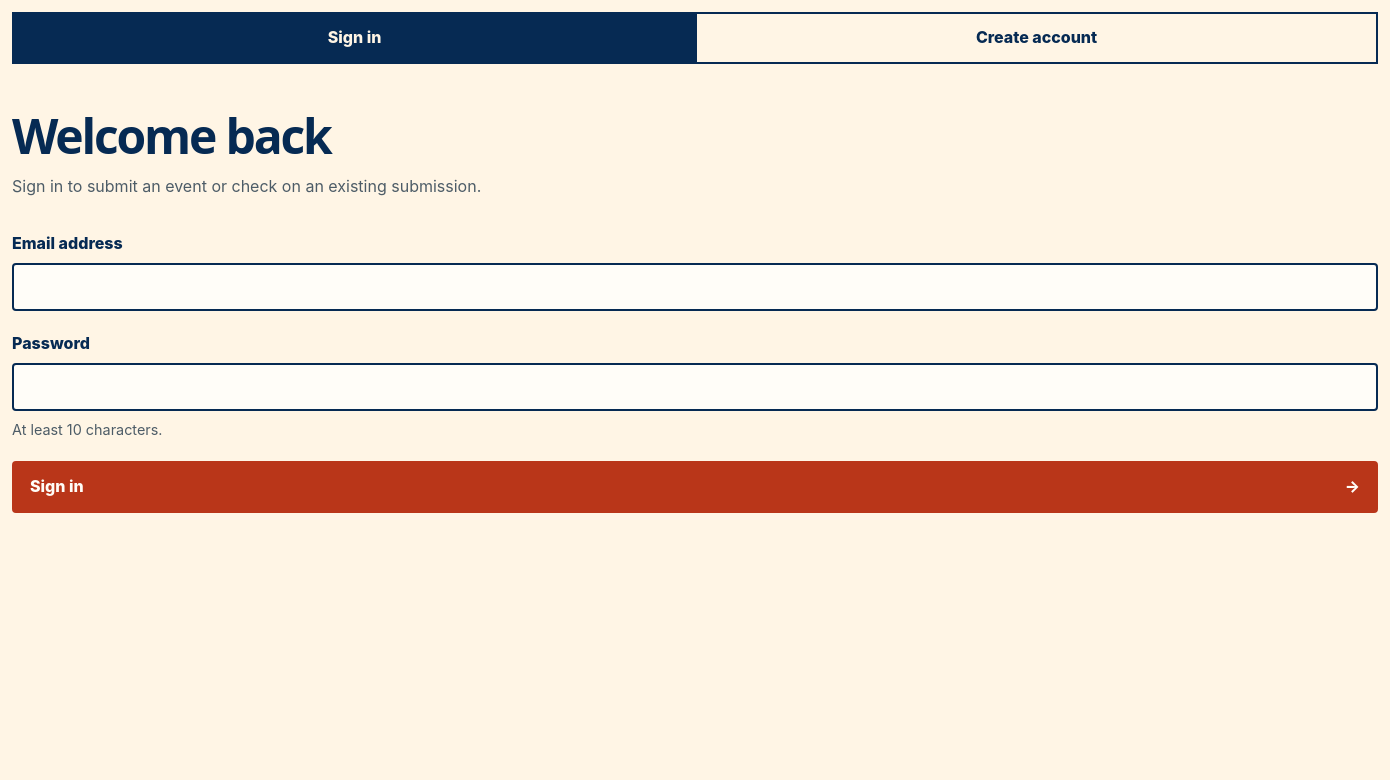
Test: AuthForm › maps duplicate-account errors and clears them when switching modes
Click the button "Create account" at (1036, 38), box [695, 14, 1376, 62]
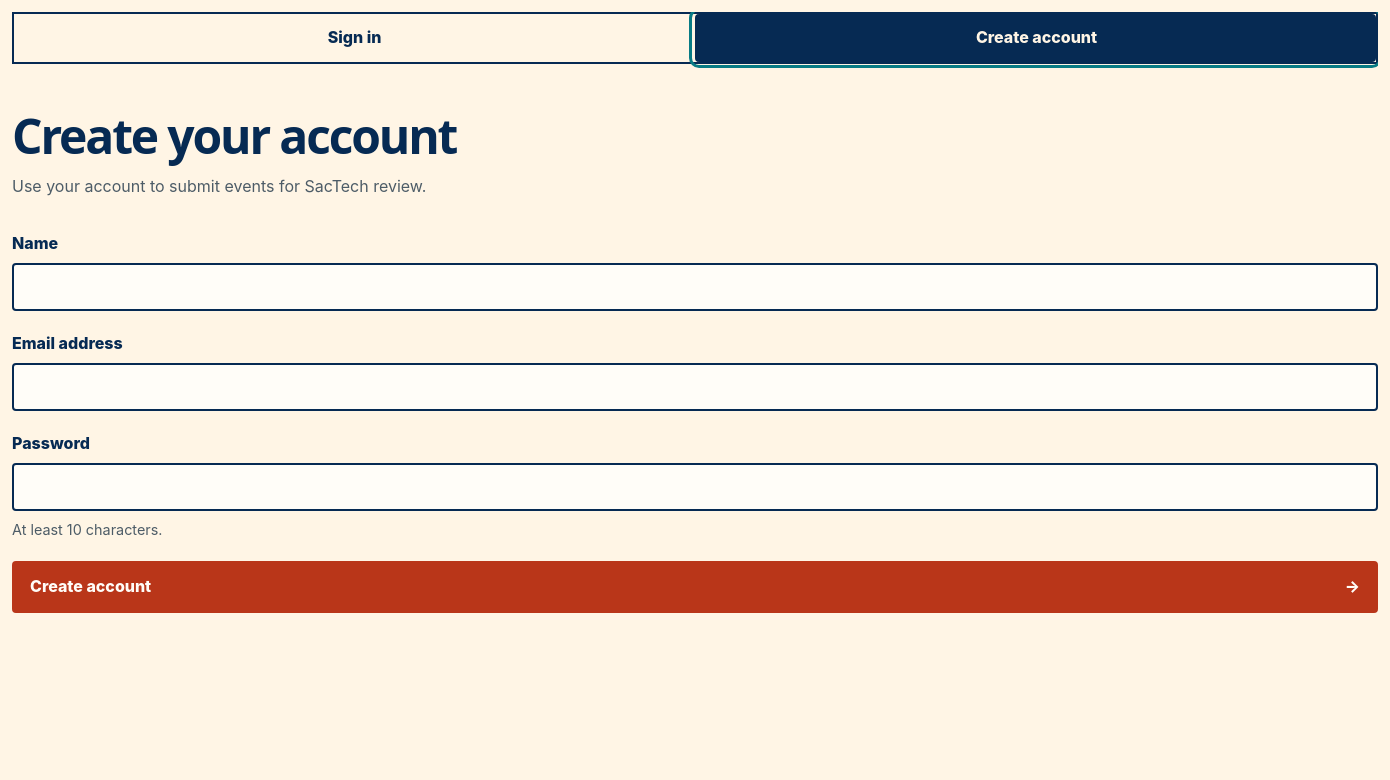
Type "Pat Lee" into the field labelled "Name" at (695, 287), box [12, 263, 1378, 311]
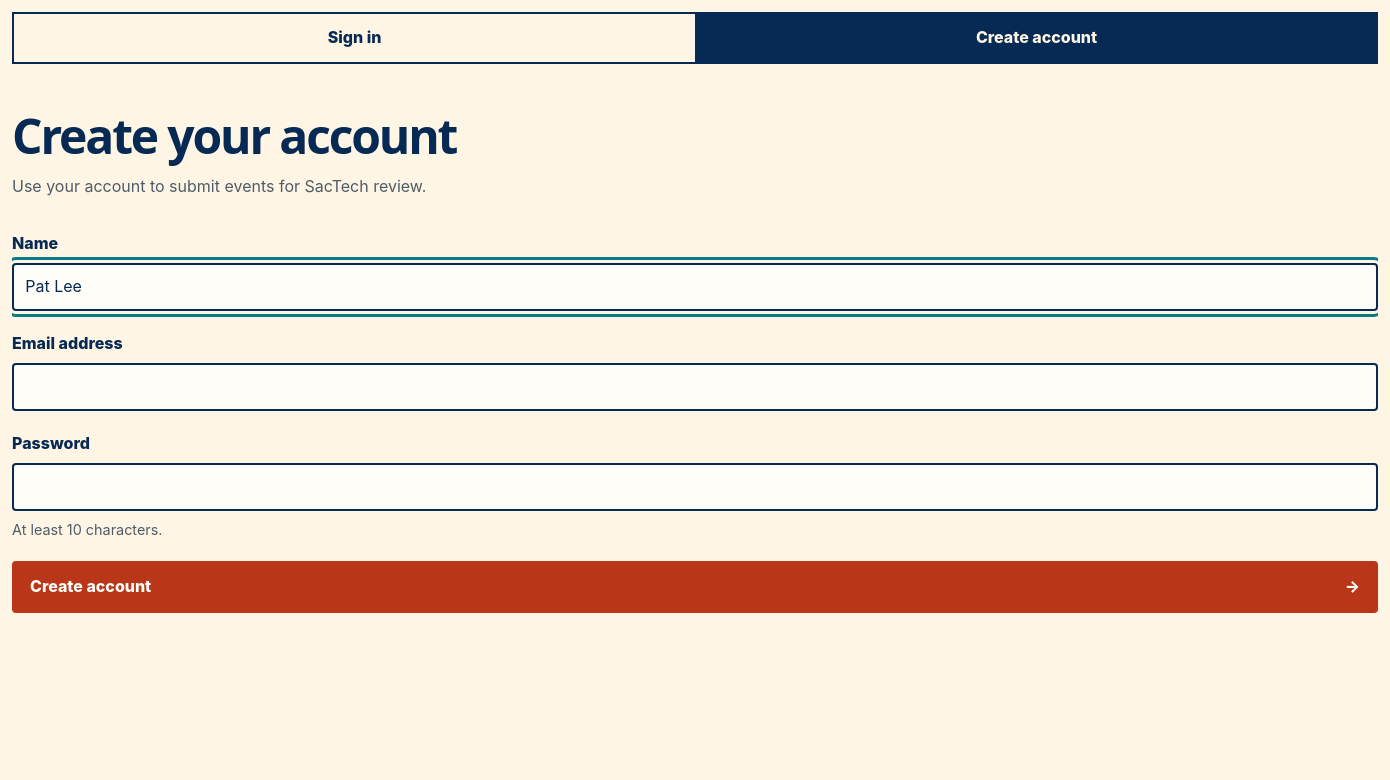
Type "person@example.com" into the field labelled "Email address" at (695, 387), box [12, 363, 1378, 411]
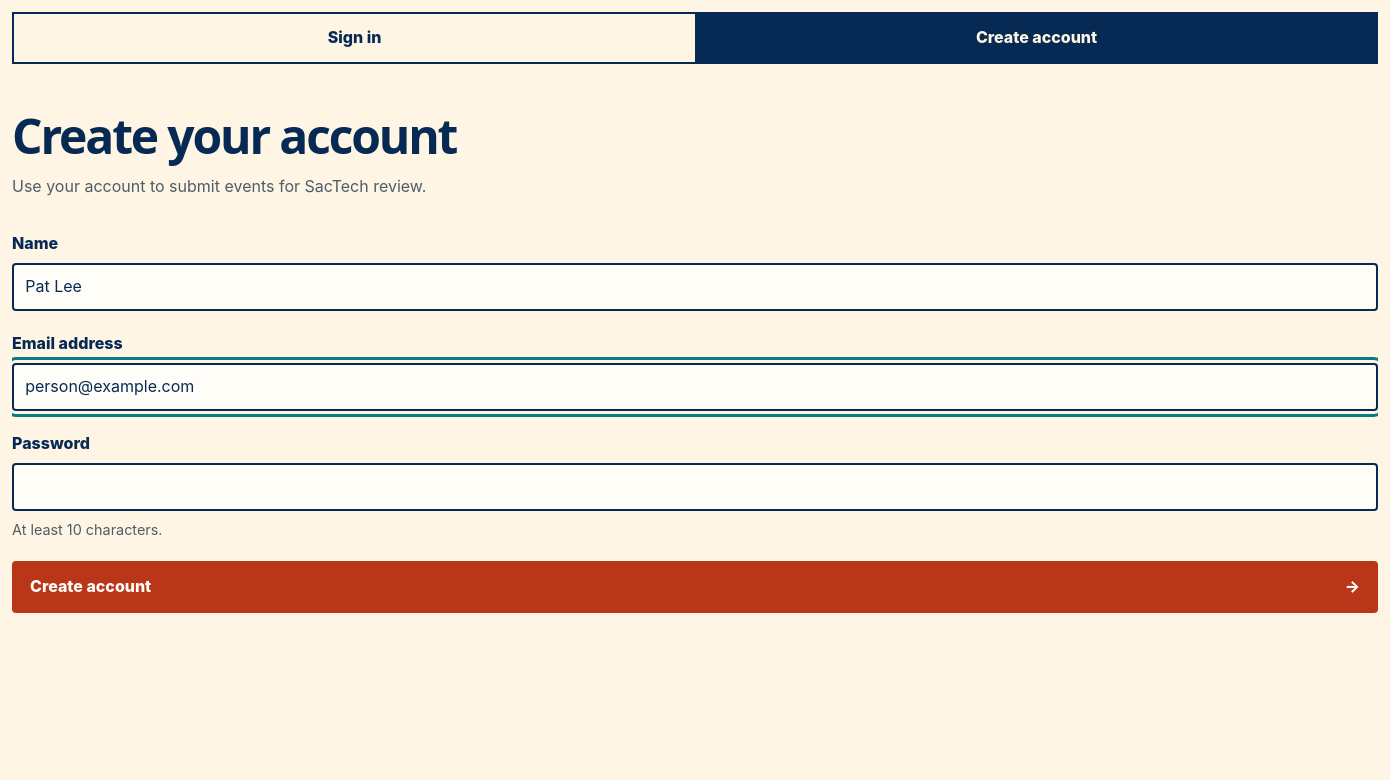
Type "correct horse" into the password field labelled "Password" at (695, 487), box [12, 463, 1378, 511]
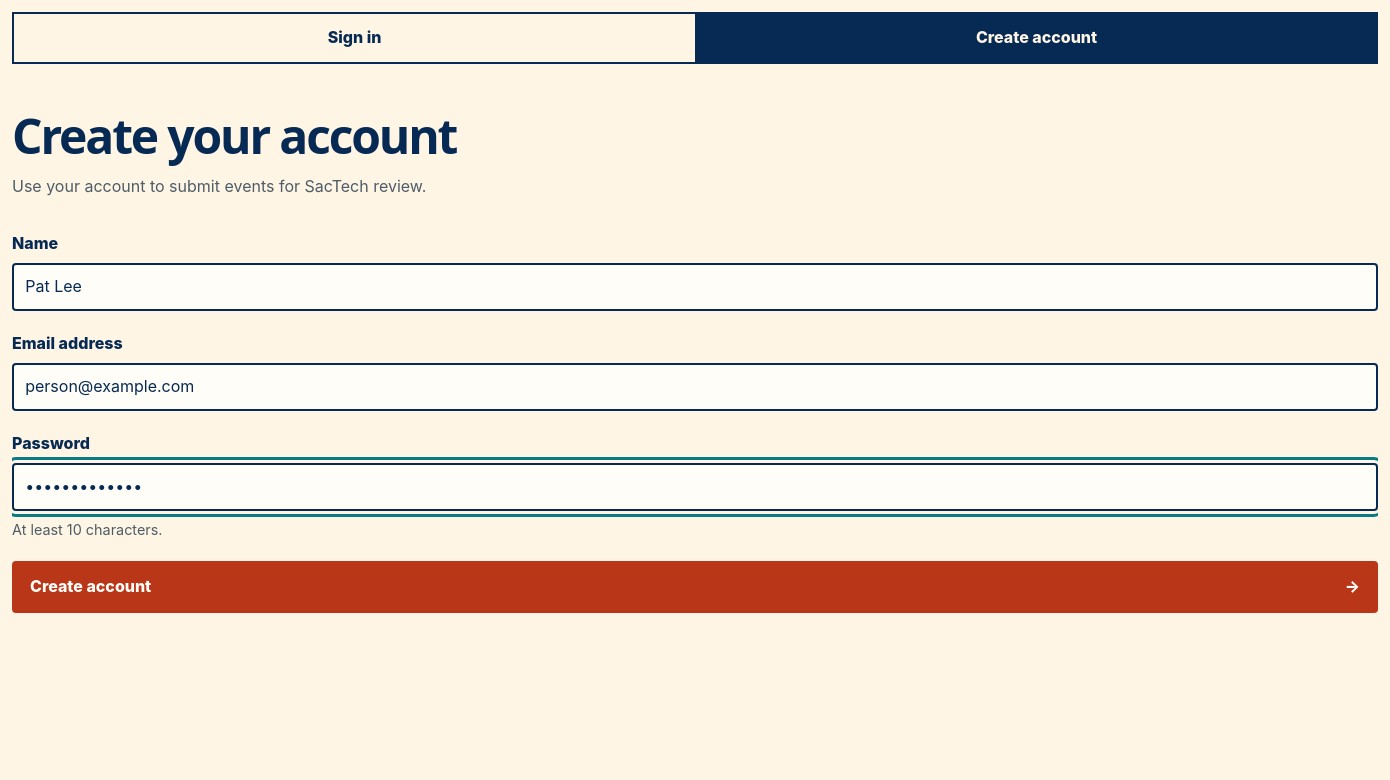
Click the button "Create account →" at (91, 586), box [12, 561, 1378, 613]
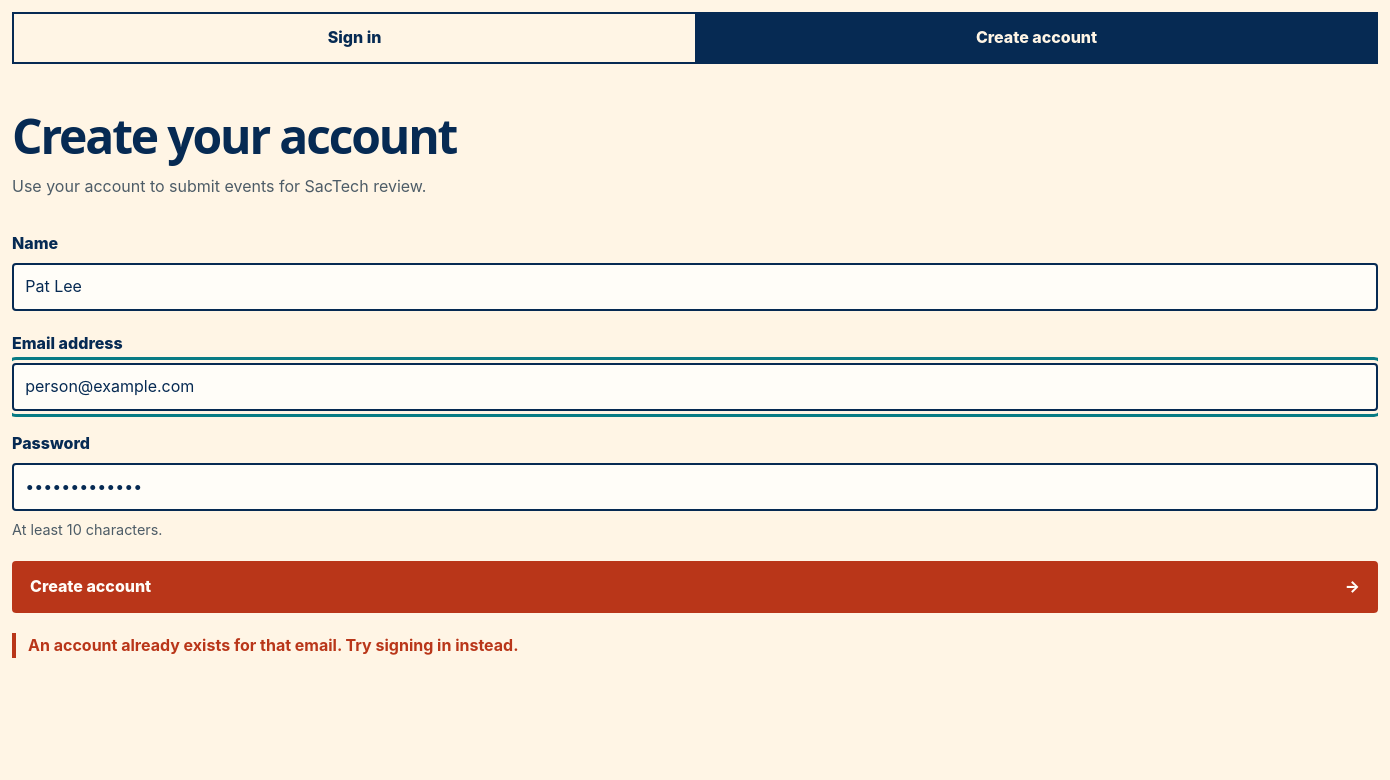
Expected: the text "An account already exists for that email. Try signing in instead." is shown, [12, 633, 1378, 658]
Click the button "Sign in" at (354, 38), box [14, 14, 695, 62]
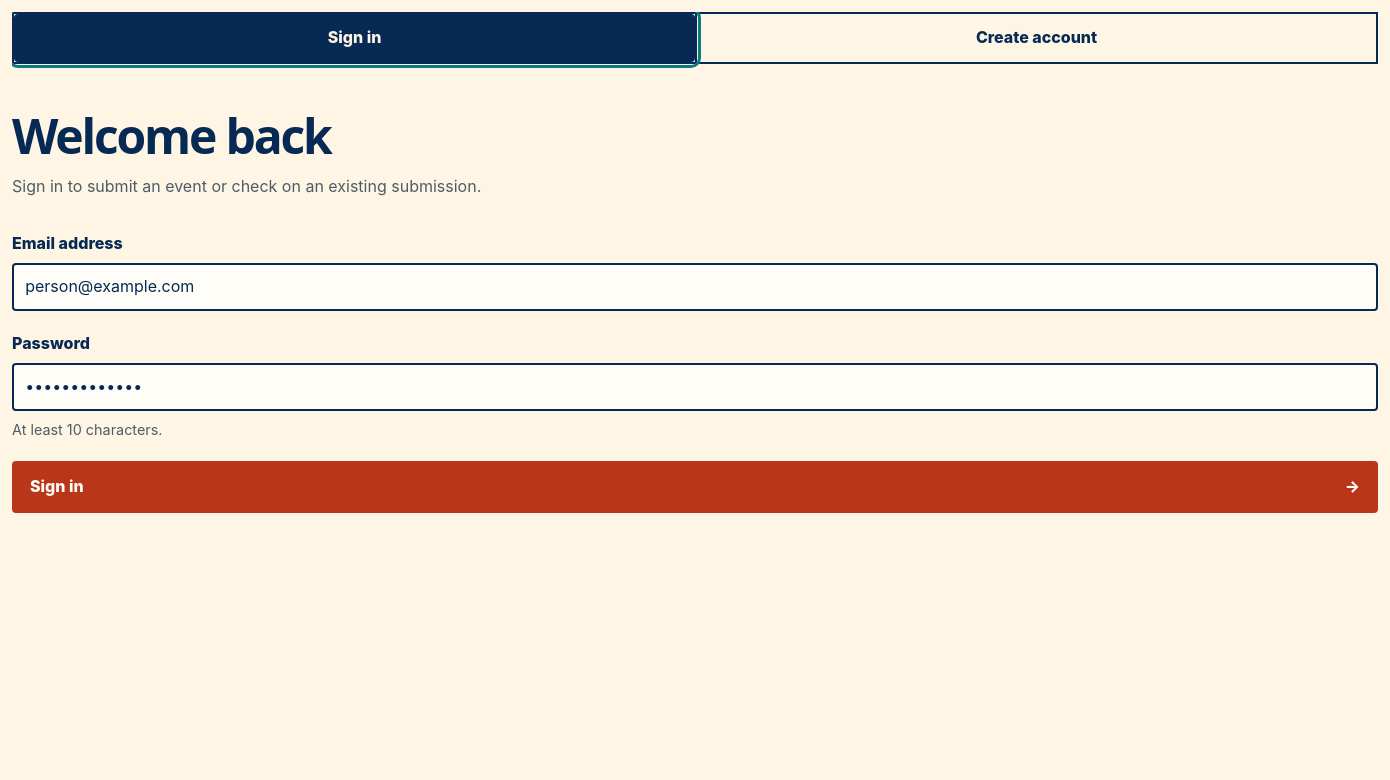
Expected: the text "An account already exists for that email. Try signing in instead." is gone
Expected: the label "Name" is gone
